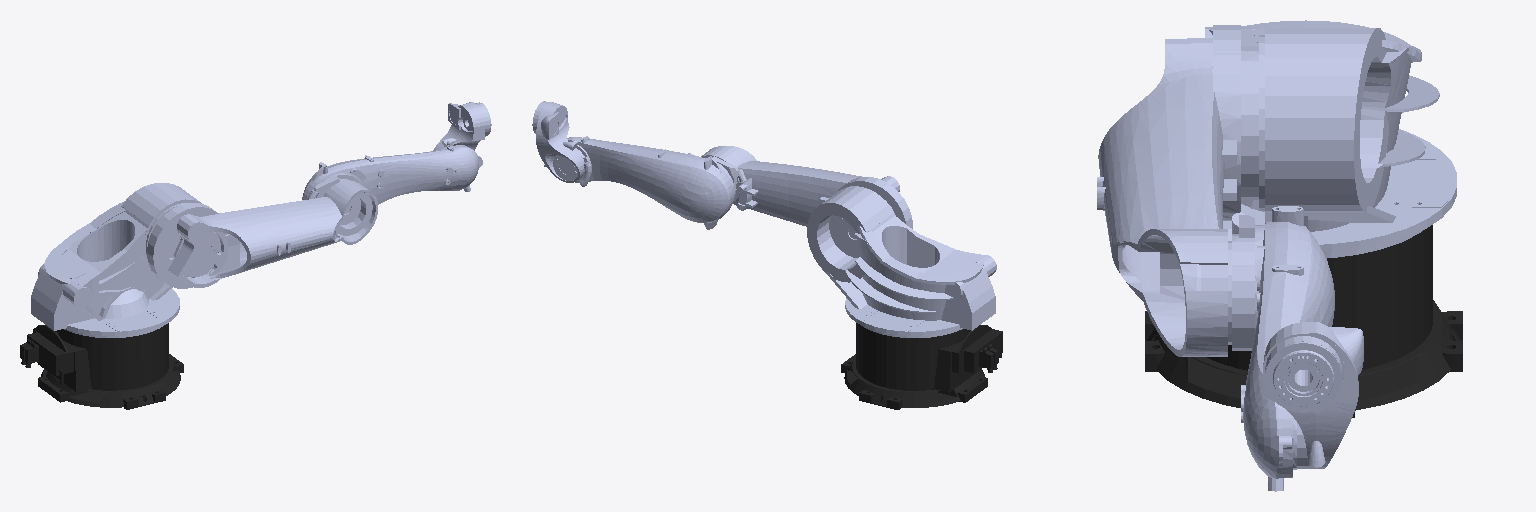
The robot description file, URDF, robot "kr470":
<robot
  name="kr470">
  <link
    name="base_link">
    <inertial>
      <origin
        xyz="-0.0319340085234189 -0.000415511173178927 0.277538598727011"
        rpy="0 0 0" />
      <mass
        value="316.910450949767" />
      <inertia
        ixx="21.290115574956"
        ixy="-0.063173100691992"
        ixz="0.367938465475192"
        iyy="26.0791515269005"
        iyz="0.00710422092789444"
        izz="32.6093608761825" />
    </inertial>
    <visual>
      <origin
        xyz="0 0 0"
        rpy="0 0 0" />
      <geometry>
        <mesh
          filename="package://kuka_kr470_support/meshes/base_link.STL" />
      </geometry>
      <material
        name="">
        <color
          rgba="0.2 0.2 0.2 1" />
      </material>
    </visual>
    <collision>
      <origin
        xyz="0 0 0"
        rpy="0 0 0" />
      <geometry>
        <mesh
          filename="package://kuka_kr470_support/meshes/base_link.STL" />
      </geometry>
    </collision>
  </link>
  <link
    name="Link1">
    <inertial>
      <origin
        xyz="0.0989685289536598 0.0205509133142213 0.295059580650042"
        rpy="0 0 0" />
      <mass
        value="221.872843366134" />
      <inertia
        ixx="16.7236709744171"
        ixy="-0.839802905049228"
        ixz="-8.28771095330619"
        iyy="39.4912842102743"
        iyz="-0.608679882619932"
        izz="35.3011576800447" />
    </inertial>
    <visual>
      <origin
        xyz="0 0 0"
        rpy="0 0 0" />
      <geometry>
        <mesh
          filename="package://kuka_kr470_support/meshes/l1.STL" />
      </geometry>
      <material
        name="">
        <color
          rgba="0.792156862745098 0.819607843137255 0.933333333333333 1" />
      </material>
    </visual>
    <collision>
      <origin
        xyz="0 0 0"
        rpy="0 0 0" />
      <geometry>
        <mesh
          filename="package://kuka_kr470_support/meshes/l1.STL" />
      </geometry>
    </collision>
  </link>
  <joint
    name="joint_a1"
    type="revolute">
    <origin
      xyz="0 0 0.536"
      rpy="0 0 0" />
    <parent
      link="base_link" />
    <child
      link="Link1" />
    <axis
      xyz="0 0 1" />
    <limit
      lower="-3.2289"
      upper="3.2289"
      effort="0"
      velocity="0" />
  </joint>
  <link
    name="Link2">
    <inertial>
      <origin
        xyz="0.331209964166554 -0.194547500501818 0.00047740254793438"
        rpy="0 0 0" />
      <mass
        value="110.065595671163" />
      <inertia
        ixx="3.62838063024324"
        ixy="2.09819596782157"
        ixz="0.0480567074794956"
        iyy="25.0335752354268"
        iyz="0.0208732595927654"
        izz="24.4652612364053" />
    </inertial>
    <visual>
      <origin
        xyz="0 0 0"
        rpy="0 0 0" />
      <geometry>
        <mesh
          filename="package://kuka_kr470_support/meshes/l2.STL" />
      </geometry>
      <material
        name="">
        <color
          rgba="0.792156862745098 0.819607843137255 0.933333333333333 1" />
      </material>
    </visual>
    <collision>
      <origin
        xyz="0 0 0"
        rpy="0 0 0" />
      <geometry>
        <mesh
          filename="package://kuka_kr470_support/meshes/l2.STL" />
      </geometry>
    </collision>
  </link>
  <joint
    name="joint_a2"
    type="revolute">
    <origin
      xyz="0.5 -0.1245 0.509"
      rpy="0 0 0" />
    <parent
      link="Link1" />
    <child
      link="Link2" />
    <axis
      xyz="0 1 0" />
    <limit
      lower="-2.2689"
      upper="0.34907"
      effort="0"
      velocity="0" />
  </joint>
  <link
    name="Link3">
    <inertial>
      <origin
        xyz="0.343175621517149 0.191558208162997 0.02221877014813"
        rpy="0 0 0" />
      <mass
        value="101.73658054617" />
      <inertia
        ixx="1.65506397055554"
        ixy="-0.195015660249143"
        ixz="-0.203204712298103"
        iyy="17.1537525452762"
        iyz="-0.012854186078741"
        izz="16.691245299945" />
    </inertial>
    <visual>
      <origin
        xyz="0 0 0"
        rpy="0 0 0" />
      <geometry>
        <mesh
          filename="package://kuka_kr470_support/meshes/l3.STL" />
      </geometry>
      <material
        name="">
        <color
          rgba="0.792156862745098 0.819607843137255 0.933333333333333 1" />
      </material>
    </visual>
    <collision>
      <origin
        xyz="0 0 0"
        rpy="0 0 0" />
      <geometry>
        <mesh
          filename="package://kuka_kr470_support/meshes/l3.STL" />
      </geometry>
    </collision>
  </link>
  <joint
    name="joint_a3"
    type="revolute">
    <origin
      xyz="1.3 -0.1435 0"
      rpy="0 0 0" />
    <parent
      link="Link2" />
    <child
      link="Link3" />
    <axis
      xyz="0 1 0" />
    <limit
      lower="0"
      upper="2.7053"
      effort="0"
      velocity="0" />
  </joint>
  <link
    name="Link4">
    <inertial>
      <origin
        xyz="0.112643993613722 0.00999318568997252 0.205661482057896"
        rpy="0 0 0" />
      <mass
        value="12.4308742401245" />
      <inertia
        ixx="0.270919332869792"
        ixy="0.0113398596424018"
        ixz="-0.0603404497565558"
        iyy="0.270887896047421"
        iyz="0.0172480374701912"
        izz="0.130298898875462" />
    </inertial>
    <visual>
      <origin
        xyz="0 0 0"
        rpy="0 0 0" />
      <geometry>
        <mesh
          filename="package://kuka_kr470_support/meshes/l4.STL" />
      </geometry>
      <material
        name="">
        <color
          rgba="0.792156862745098 0.819607843137255 0.933333333333333 1" />
      </material>
    </visual>
    <collision>
      <origin
        xyz="0 0 0"
        rpy="0 0 0" />
      <geometry>
        <mesh
          filename="package://kuka_kr470_support/meshes/l4.STL" />
      </geometry>
    </collision>
  </link>
  <joint
    name="joint_a5"
    type="revolute">
    <origin
      xyz="1.05 0.3015 0"
      rpy="0 0 0" />
    <parent
      link="Link3" />
    <child
      link="Link4" />
    <axis
      xyz="0 1 0" />
    <limit
      lower="-6.29"
      upper="6.29"
      effort="0"
      velocity="0" />
  </joint>
  <link
    name="Link5">
    <inertial>
      <origin
        xyz="-3.04665371413382E-05 3.46944695195361E-18 -0.0473448754273096"
        rpy="0 0 0" />
      <mass
        value="2.26885157442685" />
      <inertia
        ixx="0.0074476394325135"
        ixy="6.7762635780344E-20"
        ixz="2.89086241277938E-06"
        iyy="0.00744210740248221"
        iyz="-1.13440424893648E-19"
        izz="0.0117725850896514" />
    </inertial>
    <visual>
      <origin
        xyz="0 0 0"
        rpy="0 0 0" />
      <geometry>
        <mesh
          filename="package://kuka_kr470_support/meshes/l5.STL" />
      </geometry>
      <material
        name="">
        <color
          rgba="0.792156862745098 0.819607843137255 0.933333333333333 1" />
      </material>
    </visual>
    <collision>
      <origin
        xyz="0 0 0"
        rpy="0 0 0" />
      <geometry>
        <mesh
          filename="package://kuka_kr470_support/meshes/l5.STL" />
      </geometry>
    </collision>
  </link>
  <joint
    name="joint_a6"
    type="revolute">
    <origin
      xyz="0.258 -0.0335 0.3"
      rpy="1.5708 -1.5708 1.5708" />
    <parent
      link="Link4" />
    <child
      link="Link5" />
    <axis
      xyz="0 0 1" />
    <limit
      lower="-6.1087"
      upper="6.1087"
      effort="0"
      velocity="0" />
  </joint>
</robot>

--- What the picture shows (computed from the rendered views, not written in the file) ---
The picture shows the robot from 3 angles, left to right: view 1: azimuth 30°, elevation 25°; view 2: azimuth 150°, elevation 25°; view 3: azimuth 270°, elevation 25°; orthographic projection.
Robot: kr470 — 6 links, 5 joints (5 revolute); root link base_link; default pose: every joint at zero.
Visible links, largest first — view 1: Link1, Link2, base_link, Link3, Link4; view 2: Link1, base_link, Link3, Link2, Link4; view 3: Link1, Link2, base_link, Link3, Link4, Link5.
Boxes of the visible links, box(x1,y1,x2,y2) form: Link1: box(31, 183, 201, 337); Link2: box(147, 181, 377, 288); base_link: box(20, 323, 183, 409); Link3: box(302, 145, 482, 224); Link4: box(433, 102, 491, 150); Link1: box(807, 186, 996, 337); base_link: box(841, 323, 1002, 409); Link3: box(567, 136, 746, 229); Link2: box(701, 146, 912, 228); Link4: box(532, 101, 583, 182); Link1: box(1205, 20, 1456, 258); Link2: box(1097, 25, 1258, 356); base_link: box(1145, 225, 1462, 417); Link3: box(1228, 206, 1334, 491); Link4: box(1263, 322, 1363, 468); Link5: box(1273, 350, 1333, 406).
Bounding box of the posed robot: 3.8 × 1.18 × 1.48 m (x, y, z).
Meshes: 6 distinct files referenced, 6 mesh visuals loaded (6 binary STL).
